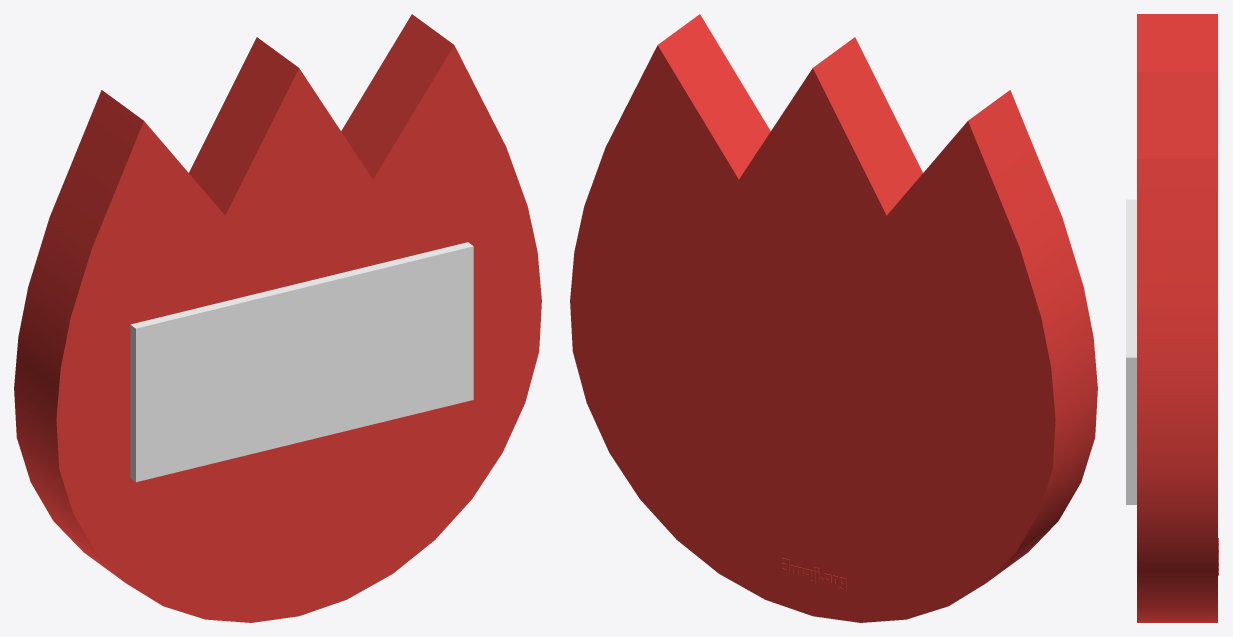
The model's file is name_badge.gltf.
3 renders of one model, left to right at view 1: azimuth 30°, elevation 25°; view 2: azimuth 150°, elevation 25°; view 3: azimuth 270°, elevation 25°, orthographic. The views are drawn at different scales.
Parts seen in each view (by area): view 1: Circle.2640; view 2: Circle.2640; view 3: Circle.2640.
Boxes of the visible parts, <box> form: Circle.2640: <box>14,14,541,622</box>; Circle.2640: <box>570,14,1097,622</box>; Circle.2640: <box>1126,14,1218,622</box>.
Bounding box in the file's own units: 1.98 × 2.14 × 0.3433.
Materials: 1 (1 with a texture image).
